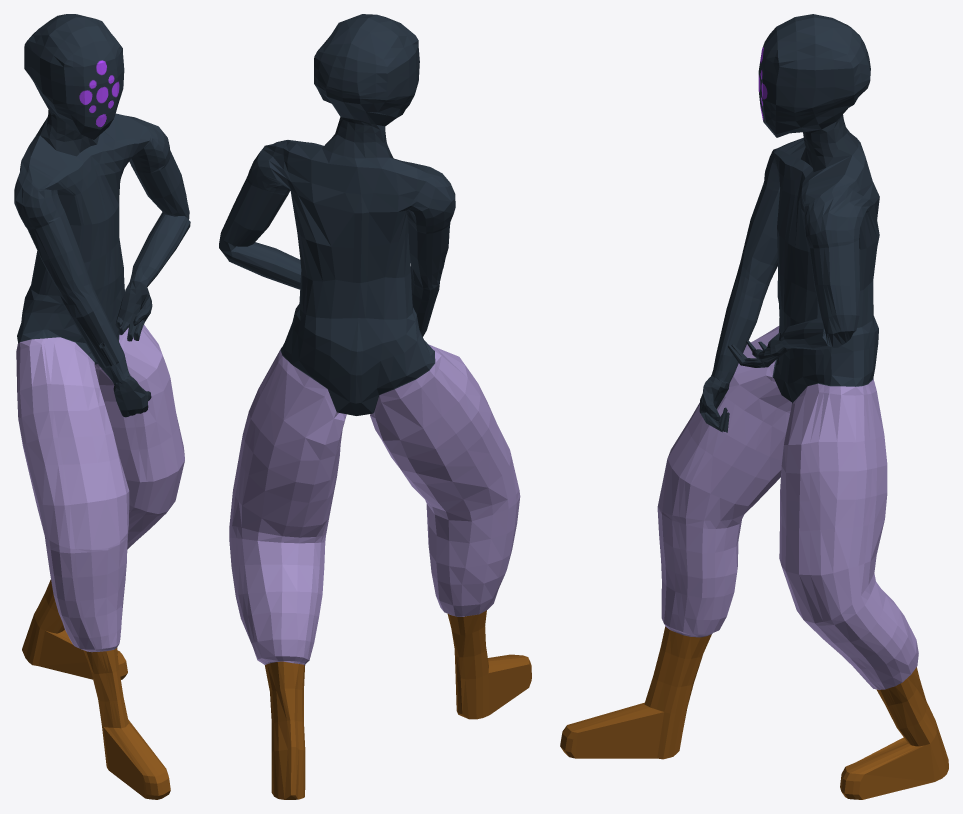
The model's file is Oracle_WF_000015.obj.
The picture shows the model from 3 angles, left to right: view 1: azimuth 30°, elevation 25°; view 2: azimuth 150°, elevation 25°; view 3: azimuth 270°, elevation 25°; orthographic projection. The views are drawn at different scales.
Visible parts, largest first — view 1: Cube; view 2: Cube; view 3: Cube.
Boxes of the visible parts, box(x1,y1,x2,y2) form: Cube: box(14, 14, 190, 799); Cube: box(219, 14, 531, 799); Cube: box(560, 14, 948, 799).
Bounding box in the file's own units: 1.17 × 3.75 × 1.76.
